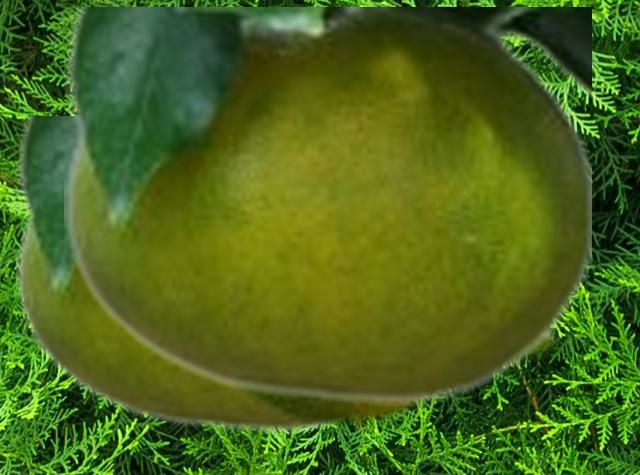dalandan: (64, 7, 590, 404), (16, 116, 341, 432), (228, 328, 562, 428)
